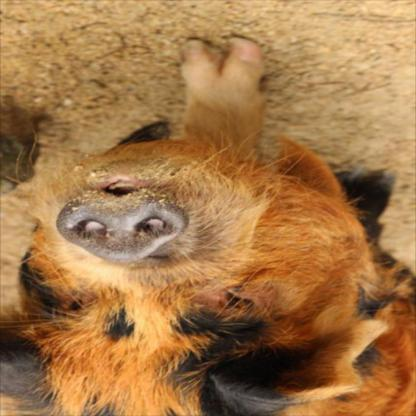boar: (0, 36, 415, 416), (0, 118, 43, 197)
